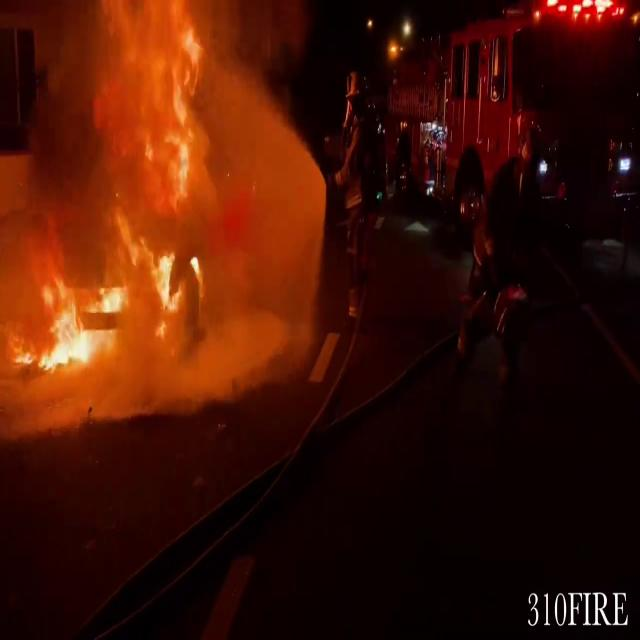Fire: (15, 1, 239, 392)
